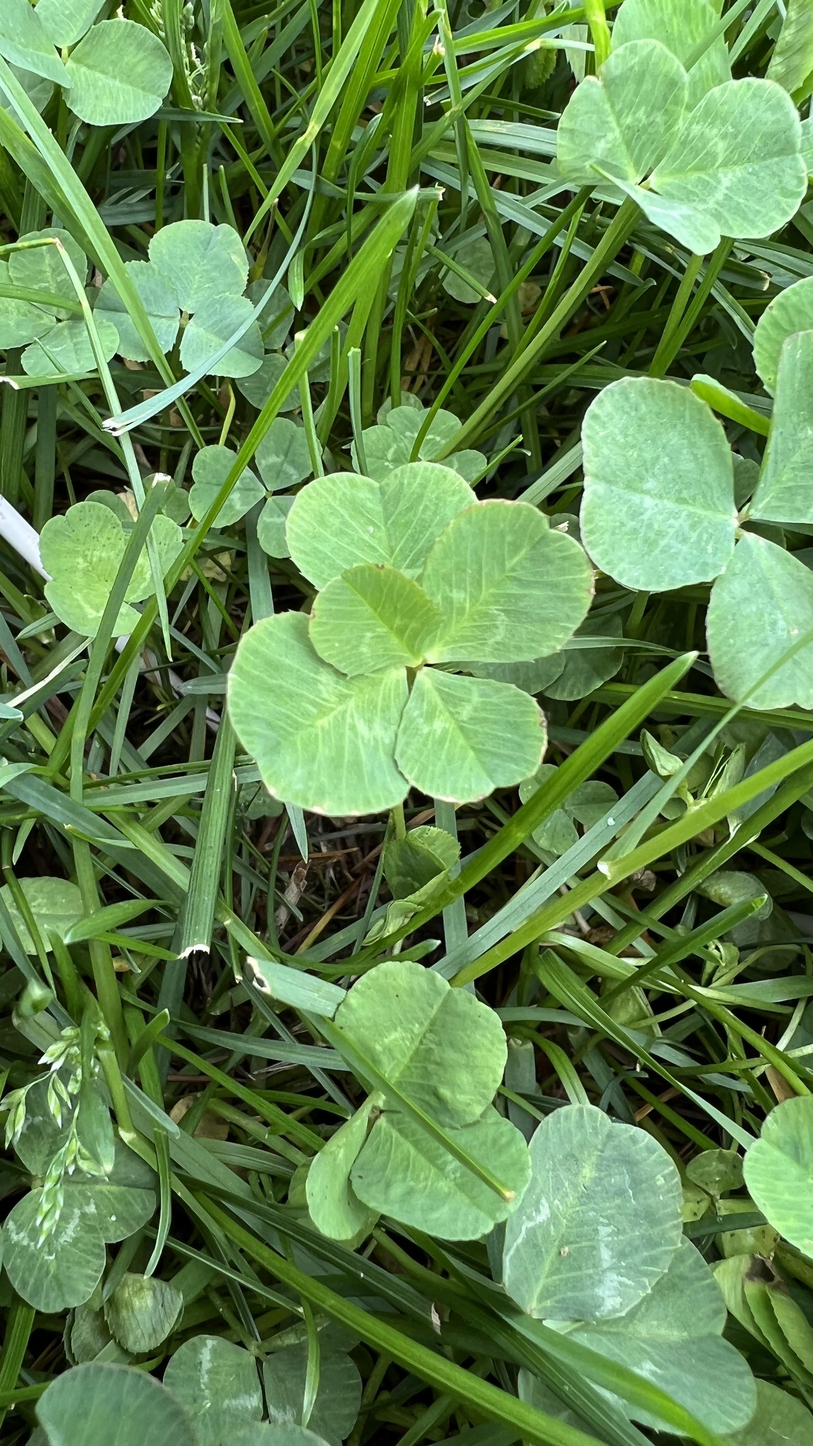5-Leaf-Clovers: (243, 466, 597, 817)
